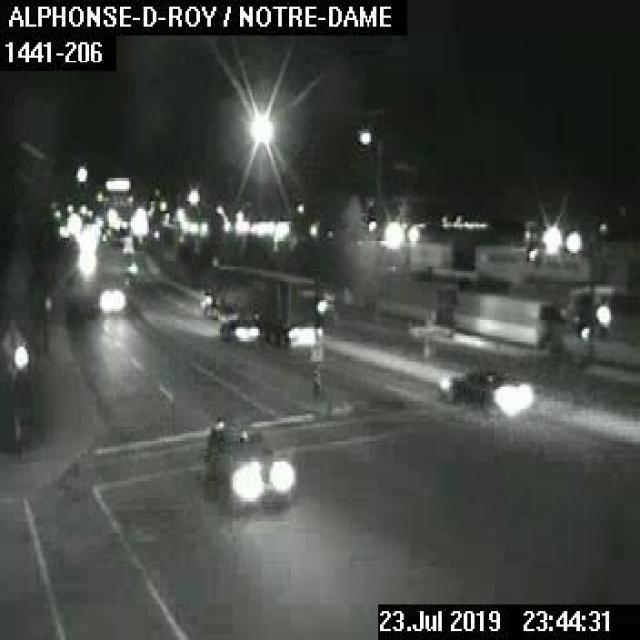vehicle: (198, 262, 320, 347), (200, 424, 290, 505), (432, 371, 522, 414), (216, 314, 261, 342), (95, 284, 128, 316)
